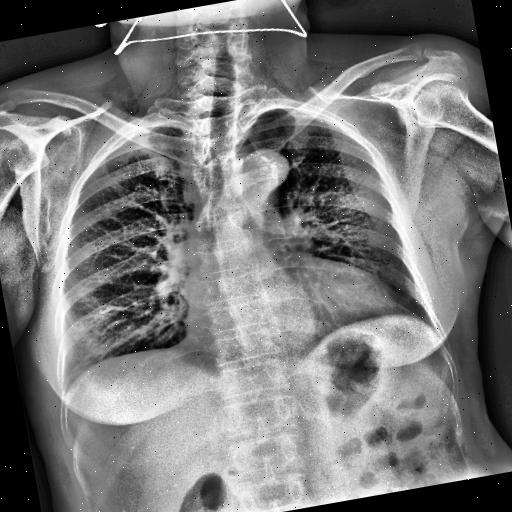0- Aortic enlargement: (226, 142, 293, 205), (228, 146, 293, 200), (236, 145, 292, 193)
3- Cardiomegaly: (174, 256, 402, 358), (180, 266, 404, 358), (184, 272, 402, 352)
9- Other lesion: (184, 120, 274, 372)
